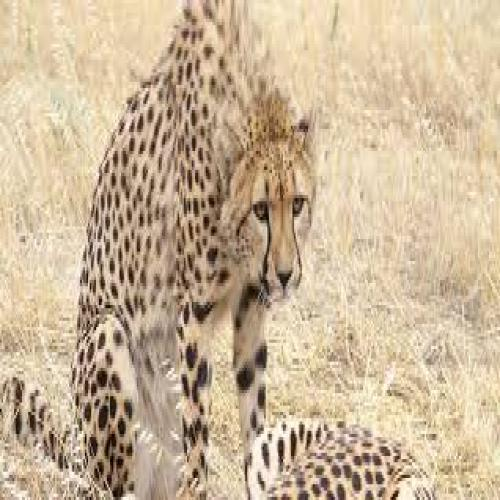cheetah-endangered: (0, 0, 317, 500), (249, 405, 443, 500)
